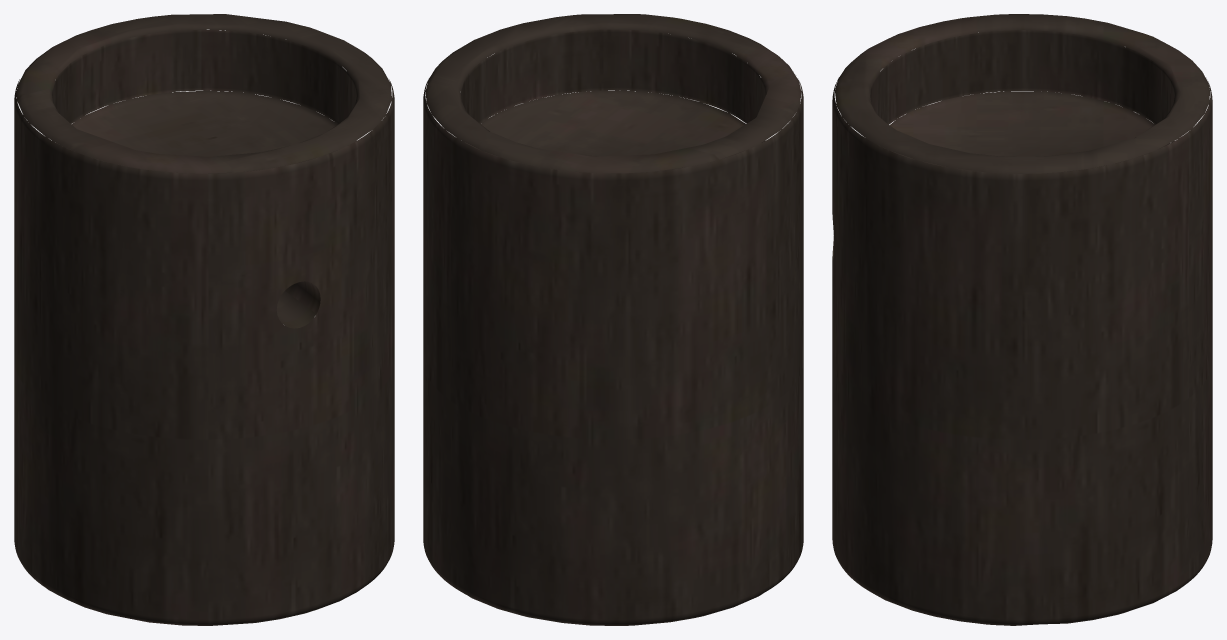
File: cylindra_vez_cerny.glb
3 renders of one model, left to right at view 1: azimuth 30°, elevation 25°; view 2: azimuth 150°, elevation 25°; view 3: azimuth 270°, elevation 25°, orthographic.
Visible parts, largest first — view 1: Cylindra_Věž_černý; view 2: Cylindra_Věž_černý; view 3: Cylindra_Věž_černý.
Part boxes in pixels (x1=…): Cylindra_Věž_černý: x1=14, y1=14, x2=394, y2=625; Cylindra_Věž_černý: x1=423, y1=14, x2=803, y2=625; Cylindra_Věž_černý: x1=832, y1=14, x2=1212, y2=625.
Bounding box in the file's own units: 0.03 × 0.04 × 0.03.
2 materials, 2 textured.
